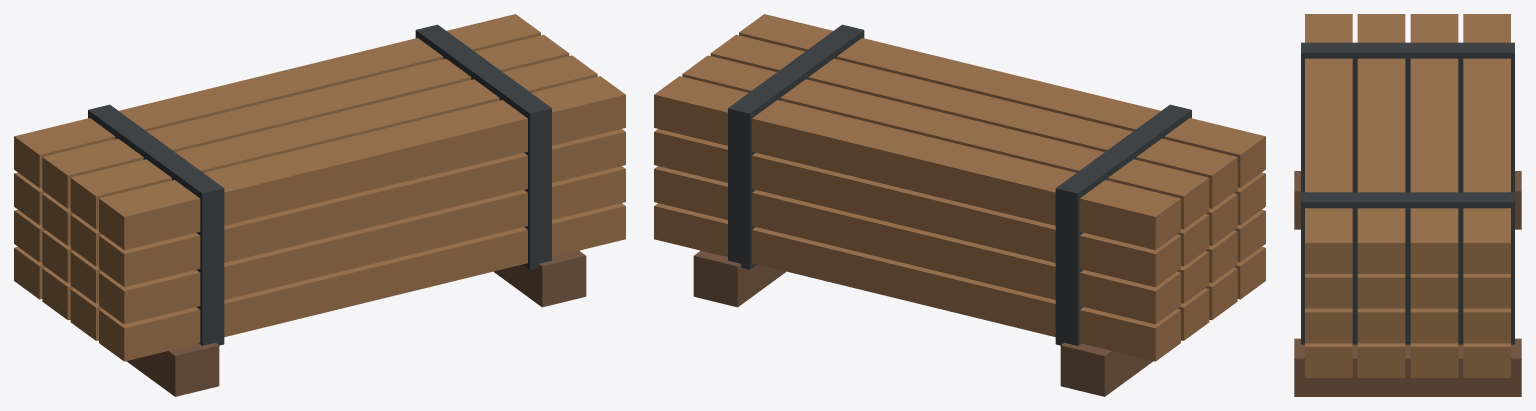
Rendered from material_stack.glb.
The picture shows the model from 3 angles, left to right: view 1: azimuth 30°, elevation 25°; view 2: azimuth 150°, elevation 25°; view 3: azimuth 270°, elevation 25°; orthographic projection. The views are drawn at different scales.
Parts seen in each view (by area): view 1: material_stack_Lumber-col.015, material_stack_Lumber-col.007, material_stack_Lumber-col.003, material_stack_Lumber-col.011, material_stack_Lumber-col.013, material_stack_Lumber-col.012, material_stack_Lumber-col.014, material_stack_Band, material_stack_Band.001, material_stack_Dunnage-col, material_stack_Dunnage-col.001, material_stack_Lumber-col.002 (+8 smaller); view 2: material_stack_Lumber-col.012, material_stack_Lumber-col.004, material_stack_Lumber-col, material_stack_Lumber-col.008, material_stack_Lumber-col.014, material_stack_Lumber-col.013, material_stack_Lumber-col.015, material_stack_Band, material_stack_Band.001, material_stack_Dunnage-col, material_stack_Dunnage-col.001, material_stack_Lumber-col.001 (+8 smaller); view 3: material_stack_Lumber-col.013, material_stack_Lumber-col.014, material_stack_Lumber-col.012, material_stack_Lumber-col.015, material_stack_Band.001, material_stack_Band, material_stack_Dunnage-col.001, material_stack_Lumber-col.005, material_stack_Lumber-col.006, material_stack_Lumber-col.004, material_stack_Lumber-col.007, material_stack_Lumber-col.001 (+8 smaller).
Part boxes in pixels (left/top/right/bottom): material_stack_Lumber-col.015: left=99, top=76, right=625, bottom=250; material_stack_Lumber-col.007: left=99, top=166, right=625, bottom=324; material_stack_Lumber-col.003: left=99, top=203, right=625, bottom=361; material_stack_Lumber-col.011: left=99, top=129, right=625, bottom=287; material_stack_Lumber-col.013: left=42, top=34, right=569, bottom=208; material_stack_Lumber-col.012: left=14, top=14, right=540, bottom=188; material_stack_Lumber-col.014: left=70, top=55, right=597, bottom=229; material_stack_Band: left=88, top=104, right=224, bottom=345; material_stack_Band.001: left=415, top=24, right=551, bottom=269; material_stack_Dunnage-col: left=70, top=319, right=219, bottom=396; material_stack_Dunnage-col.001: left=494, top=250, right=586, bottom=307; material_stack_Lumber-col.002: left=70, top=288, right=102, bottom=340; material_stack_Lumber-col.012: left=654, top=76, right=1180, bottom=250; material_stack_Lumber-col.004: left=654, top=166, right=1180, bottom=324; material_stack_Lumber-col: left=654, top=203, right=1180, bottom=361; material_stack_Lumber-col.008: left=654, top=129, right=1180, bottom=287; material_stack_Lumber-col.014: left=710, top=34, right=1237, bottom=208; material_stack_Lumber-col.013: left=682, top=55, right=1209, bottom=229; material_stack_Lumber-col.015: left=739, top=14, right=1265, bottom=188; material_stack_Band: left=1055, top=104, right=1191, bottom=345; material_stack_Band.001: left=728, top=24, right=864, bottom=269; material_stack_Dunnage-col: left=1060, top=319, right=1209, bottom=396; material_stack_Dunnage-col.001: left=693, top=250, right=785, bottom=307; material_stack_Lumber-col.001: left=1177, top=288, right=1209, bottom=340; material_stack_Lumber-col.013: left=1410, top=14, right=1458, bottom=273; material_stack_Lumber-col.014: left=1357, top=14, right=1405, bottom=273; material_stack_Lumber-col.012: left=1463, top=14, right=1510, bottom=273; material_stack_Lumber-col.015: left=1305, top=14, right=1352, bottom=273; material_stack_Band.001: left=1301, top=192, right=1514, bottom=344; material_stack_Band: left=1301, top=42, right=1514, bottom=192; material_stack_Dunnage-col.001: left=1294, top=338, right=1521, bottom=396; material_stack_Lumber-col.005: left=1410, top=308, right=1458, bottom=343; material_stack_Lumber-col.006: left=1357, top=308, right=1405, bottom=343; material_stack_Lumber-col.004: left=1463, top=308, right=1510, bottom=343; material_stack_Lumber-col.007: left=1305, top=308, right=1352, bottom=343; material_stack_Lumber-col.001: left=1410, top=343, right=1458, bottom=377.
Bounding box in the file's own units: 2.05 × 0.755 × 0.86.
